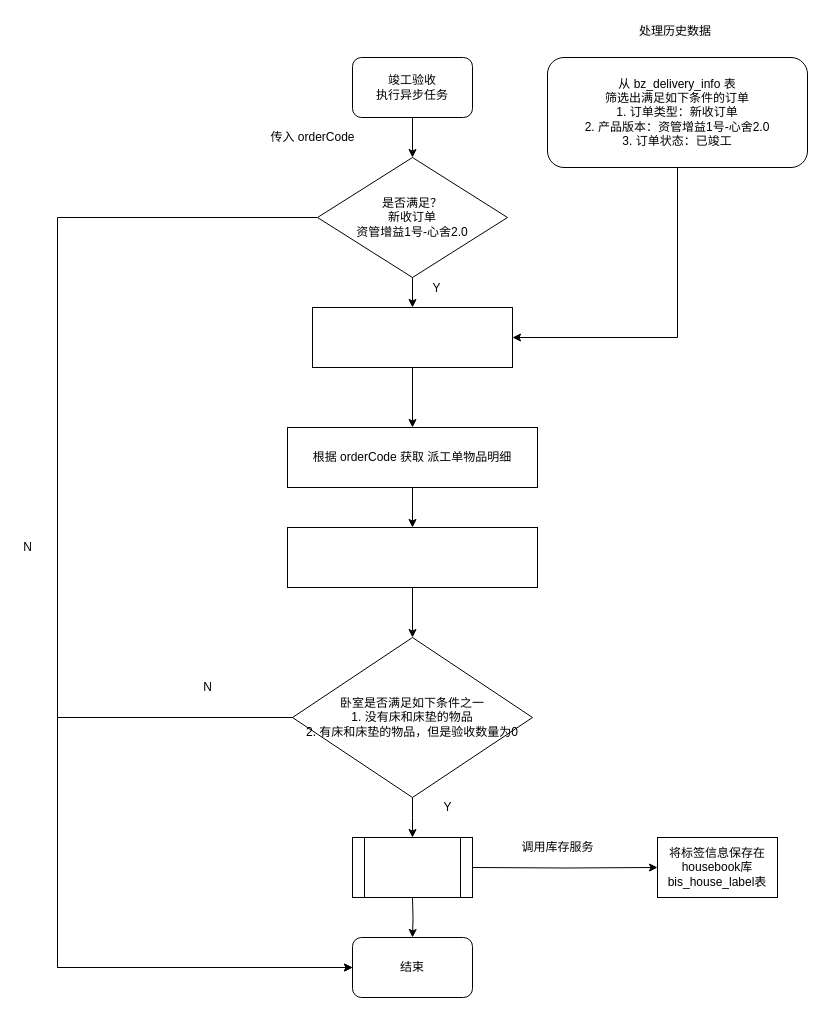
Image size: 825x1015. Some labels were removed from this diagram. The shapes that lost their labels are listed below. From the top down, each one's box as (x1, y1, x2, y2) in pixels, then its label:
(312, 306, 512, 368): 从 bz_delivery_info 表 根据 orderCode 获取 houseCode
(286, 526, 538, 588): 根据 houseCode 获取 room 列表
(352, 836, 472, 898): 打次卧空配标签
